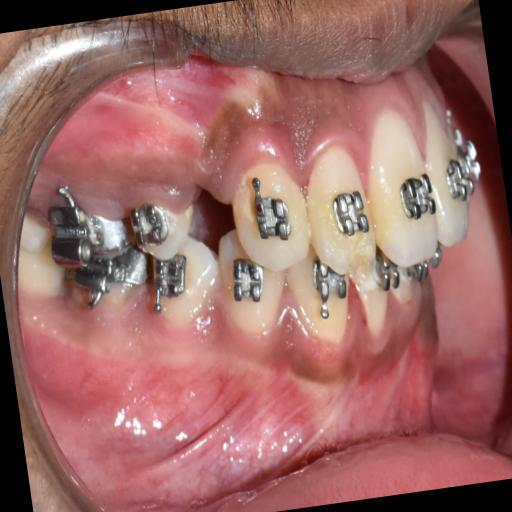correct_brace: (122, 166, 205, 264), (242, 178, 299, 255), (324, 178, 381, 254), (397, 166, 437, 222)
incorrect_brace: (298, 138, 380, 281), (119, 191, 176, 254)
